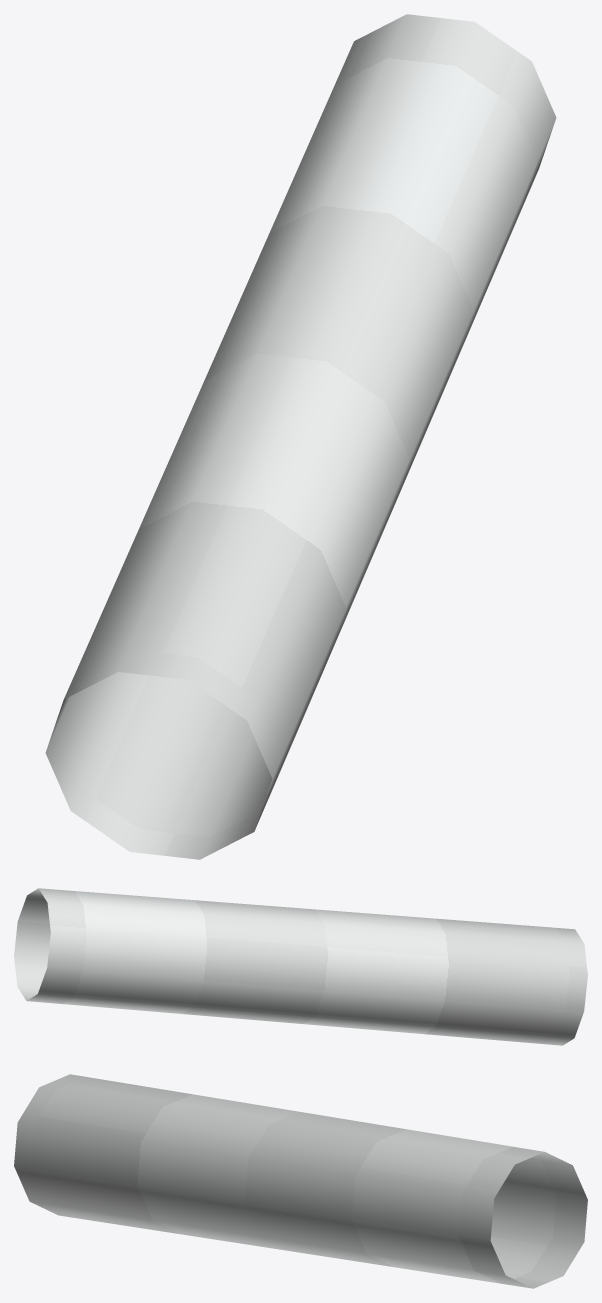
File: nycsignalarm_diagonal12_c12.obj
3 renders of one model, top to bottom at view 1: azimuth 30°, elevation 25°; view 2: azimuth 150°, elevation 25°; view 3: azimuth 270°, elevation 25°, orthographic. The views are drawn at different scales.
Parts seen in each view (by area): view 1: nycsignalarm_diagonal12_c12; view 2: nycsignalarm_diagonal12_c12; view 3: nycsignalarm_diagonal12_c12.
Boxes of the visible parts, x1,y1,x2,y2 form: nycsignalarm_diagonal12_c12: (45, 14, 556, 859); nycsignalarm_diagonal12_c12: (14, 888, 587, 1045); nycsignalarm_diagonal12_c12: (14, 1074, 587, 1288).
Bounding box in the file's own units: 1.21 × 0.5653 × 1.21.
